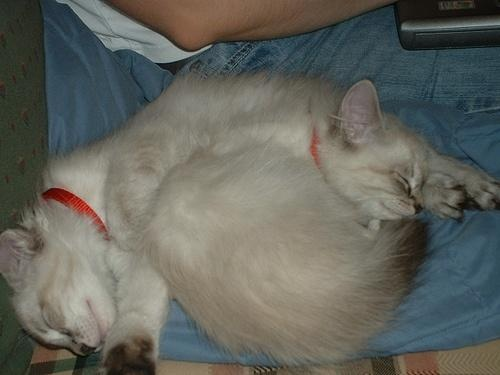cat: (2, 74, 500, 375), (147, 78, 430, 361)
